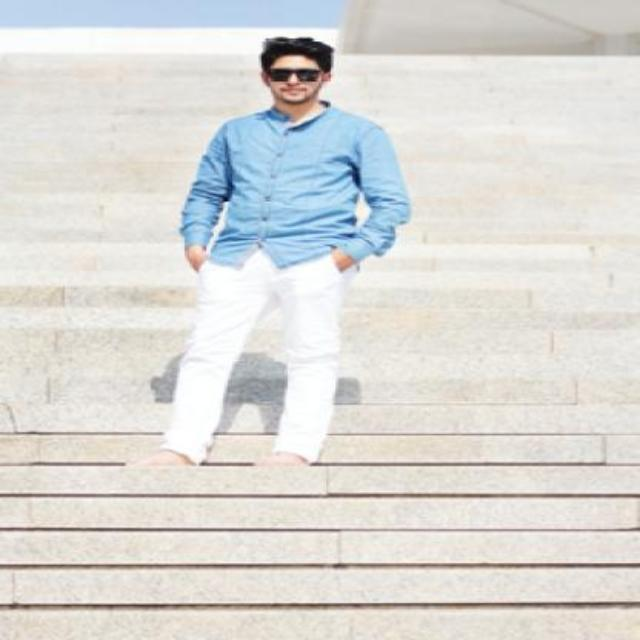sunglasses: (266, 68, 322, 80)
